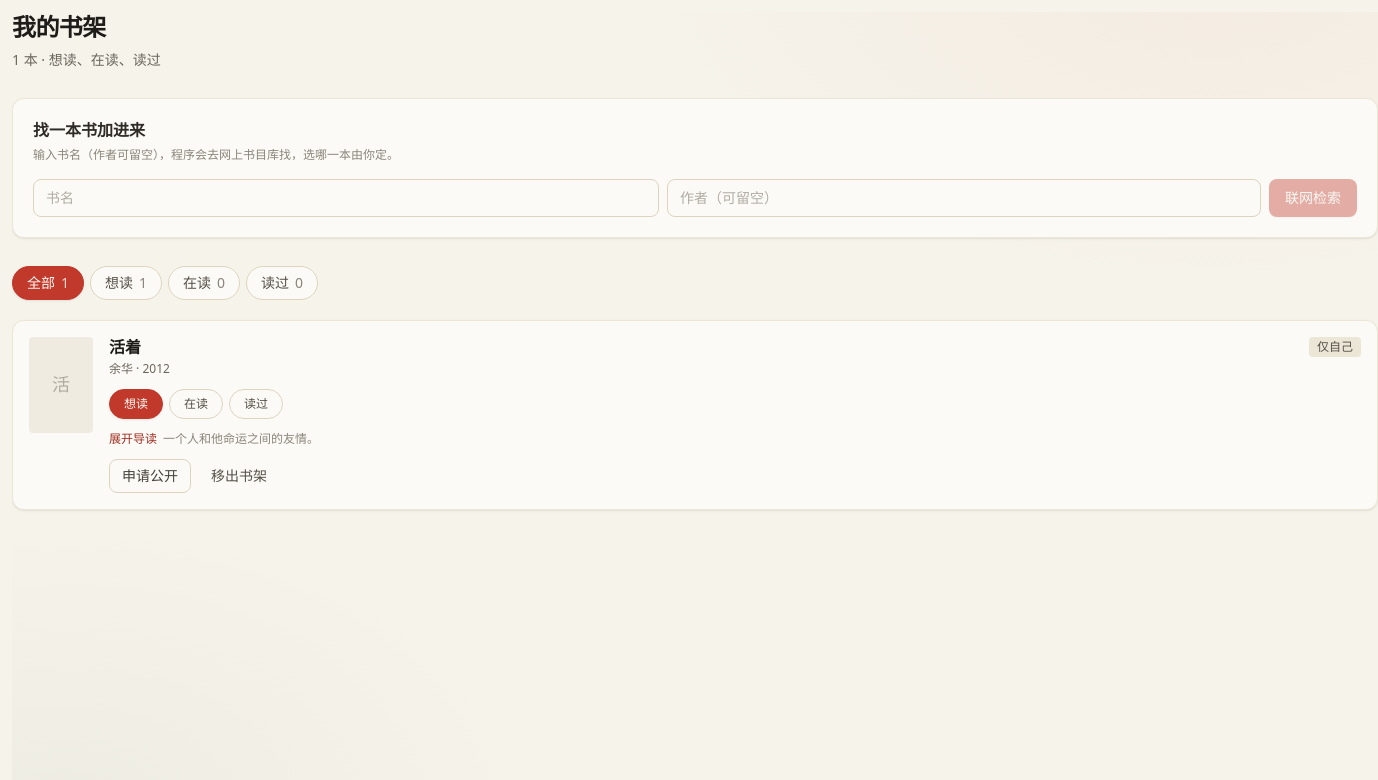
书架上的操作 › 导读默认收起，展开才渲染正文
The image size is (1378, 780).
Expected: the heading "活着" is shown, 109,337 -> 141,359
Expected: the text "这本书在讲什么" is not shown
Click the button "展开导读 一个人和他命运之间的友情。": click(133, 438) 109,431 -> 1361,447
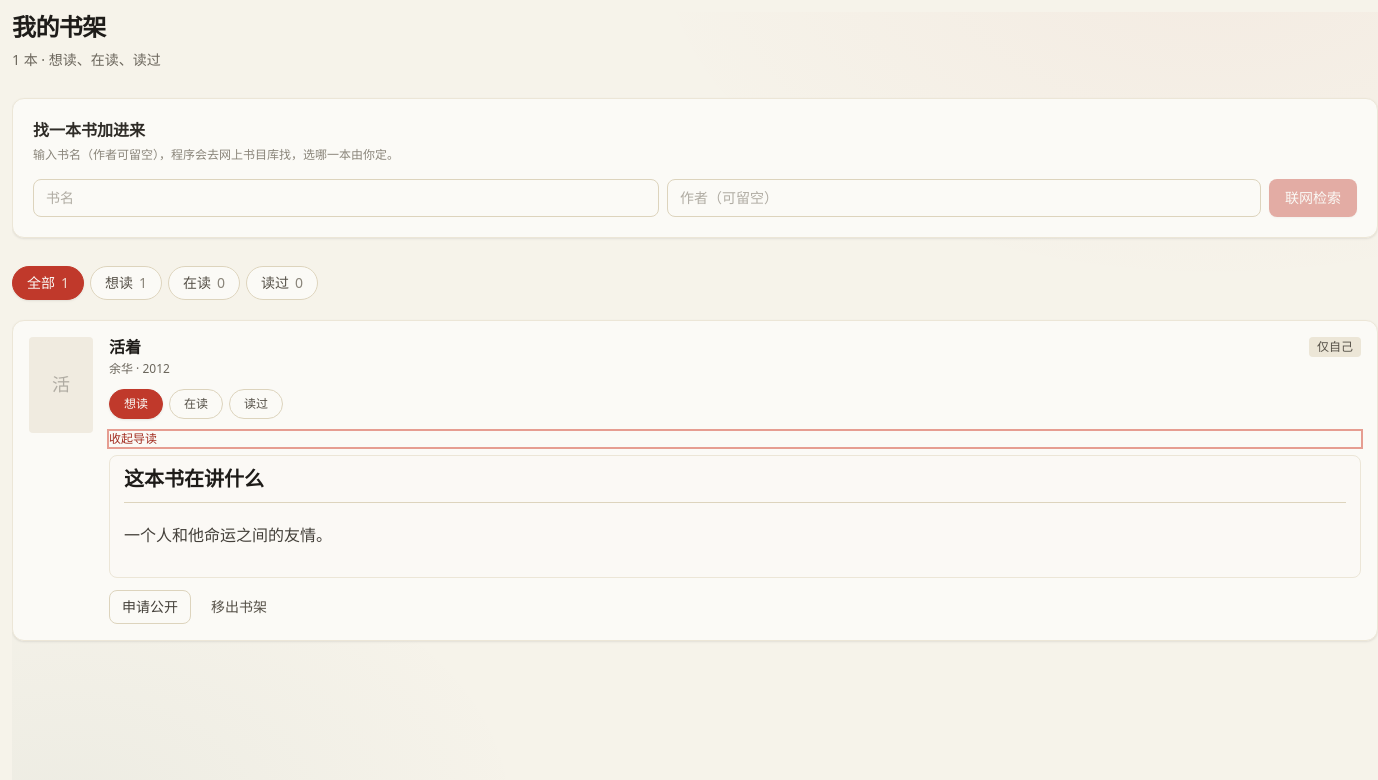
Expected: the heading "这本书在讲什么" is shown, 124,466 -> 1346,502
